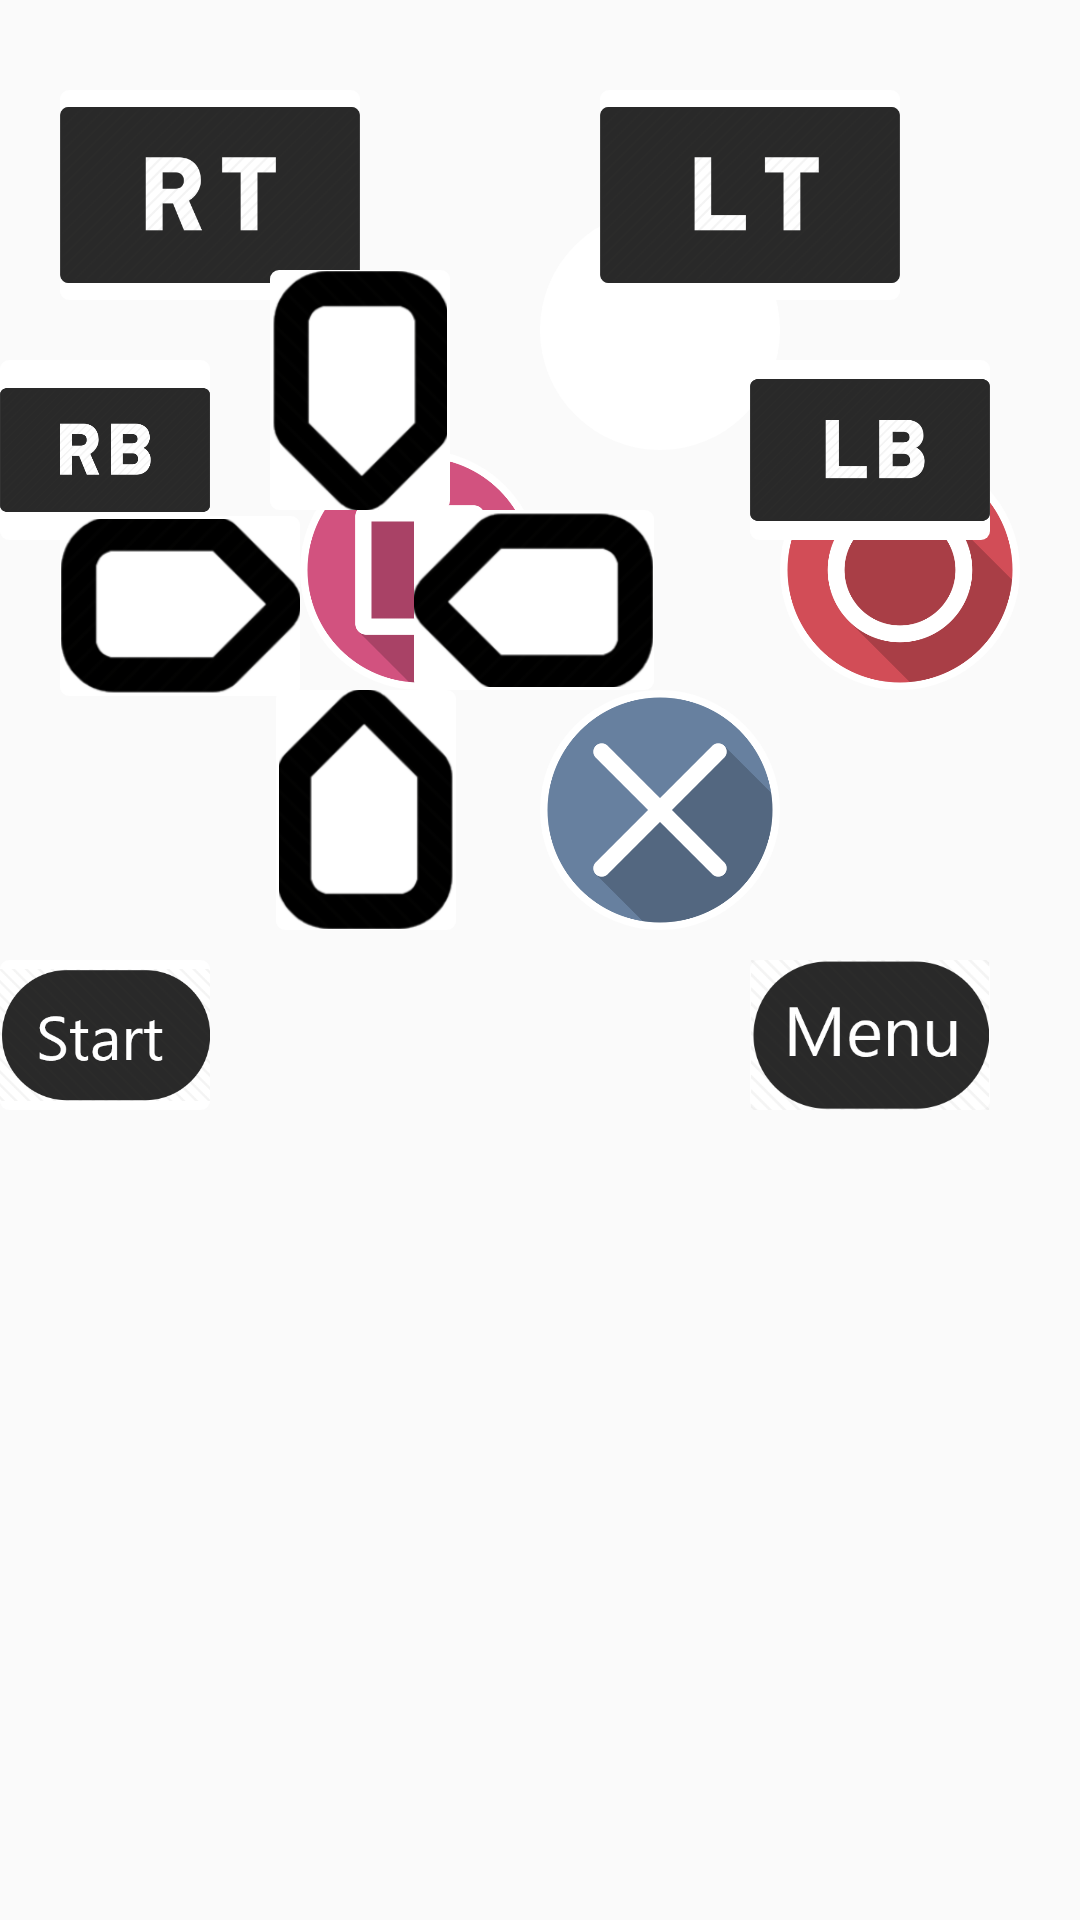

Icon click points for this 1080px×1920px phone screenshot, format [x,y]:
pad down: [366,809]
pad left: [180,606]
pad up: [360,390]
playstation circle: [896,566]
playstation cross: [660,810]
